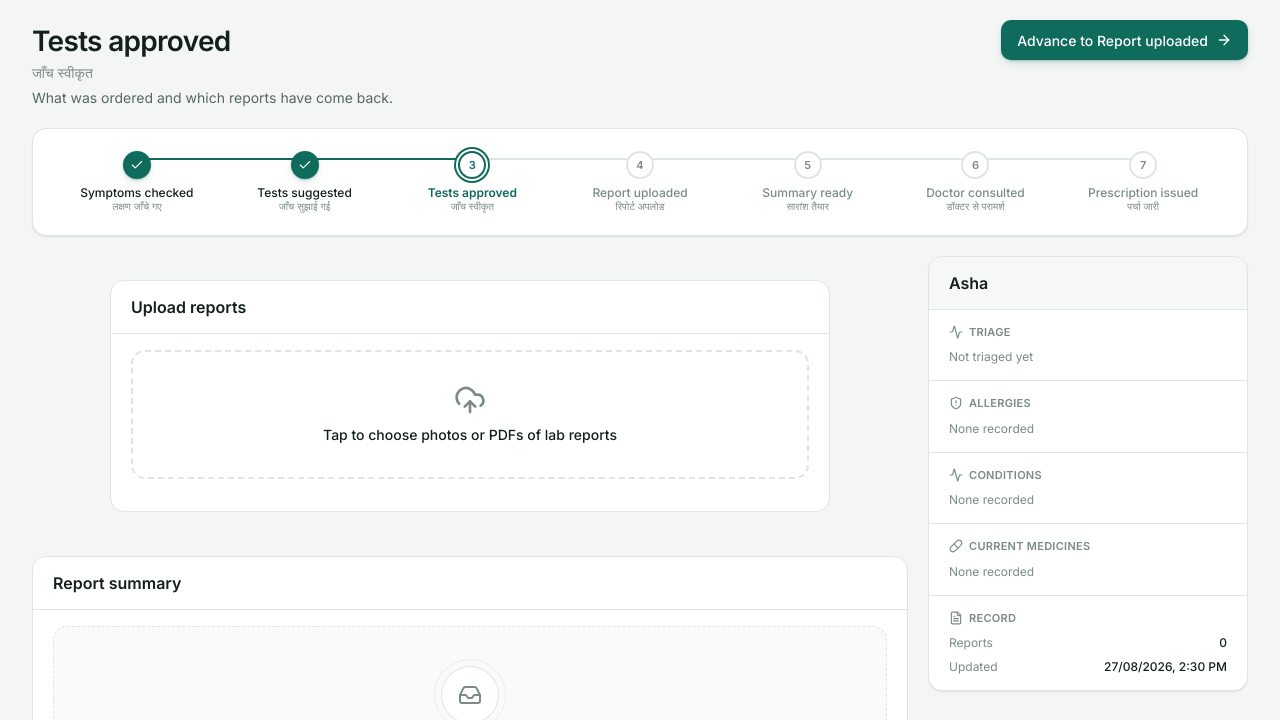
Test case: VisitContainer › drops a refusal when the user moves to another stage
This screenshot has width=1280, height=720.
Click the button with test id "advance-visit" at (1125, 40), box [1001,20,1248,60]
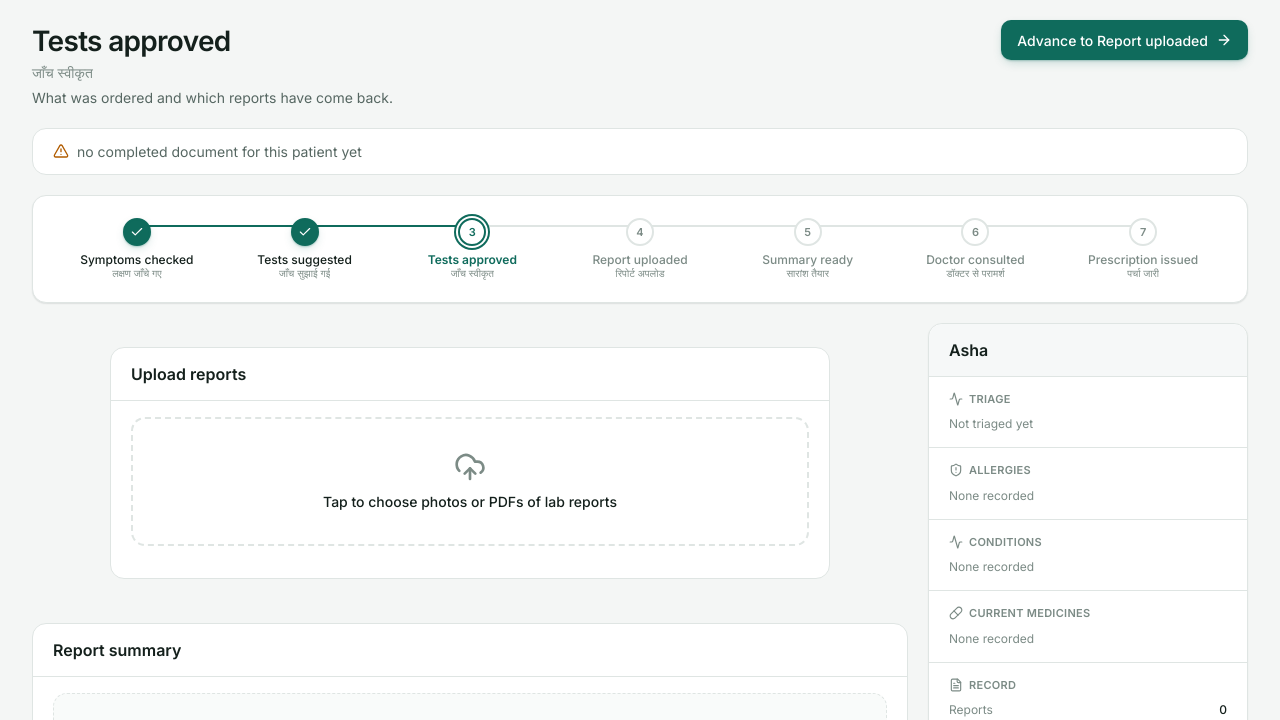
Expected: the text "no completed document for this patient yet" is shown, [77,141,362,162]
Click the button "4 Report uploaded रिपोर्ट अपलोड" at (640, 249), box [556,212,724,286]
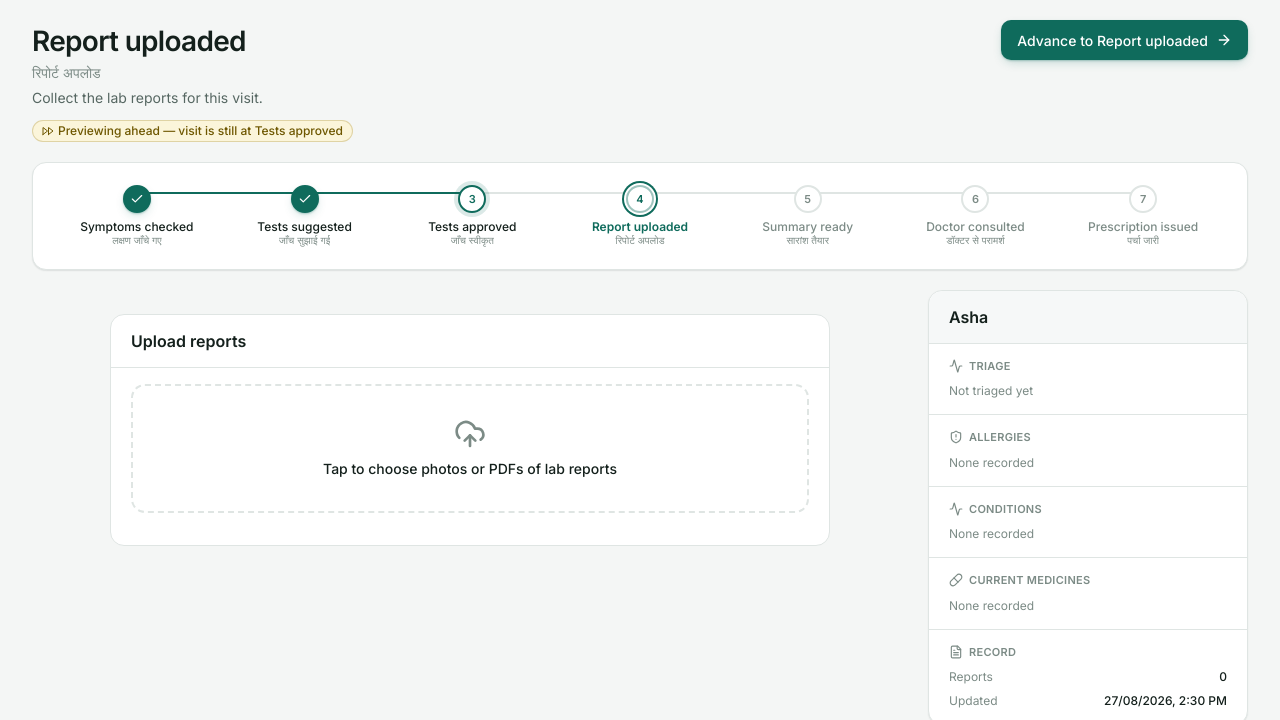
Expected: the text "no completed document for this patient yet" is gone
